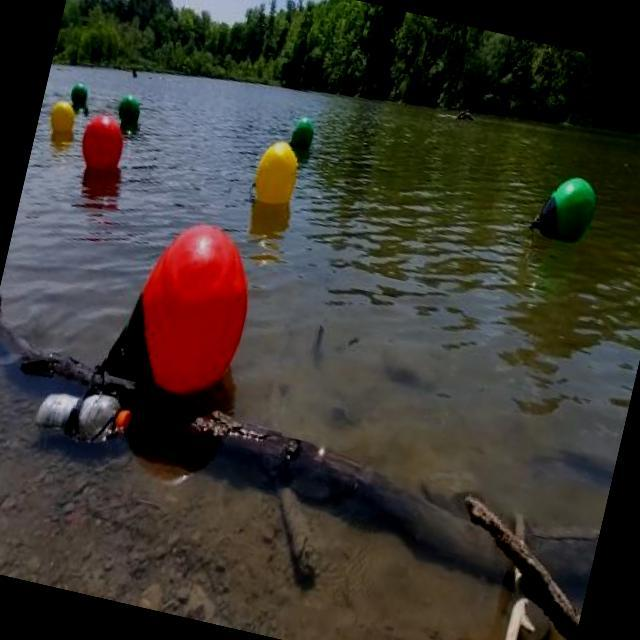buoy: (92, 204, 269, 410), (528, 166, 601, 248), (242, 136, 304, 208), (76, 112, 129, 176), (112, 85, 146, 127), (47, 94, 78, 138), (289, 113, 317, 150), (68, 80, 90, 108)
